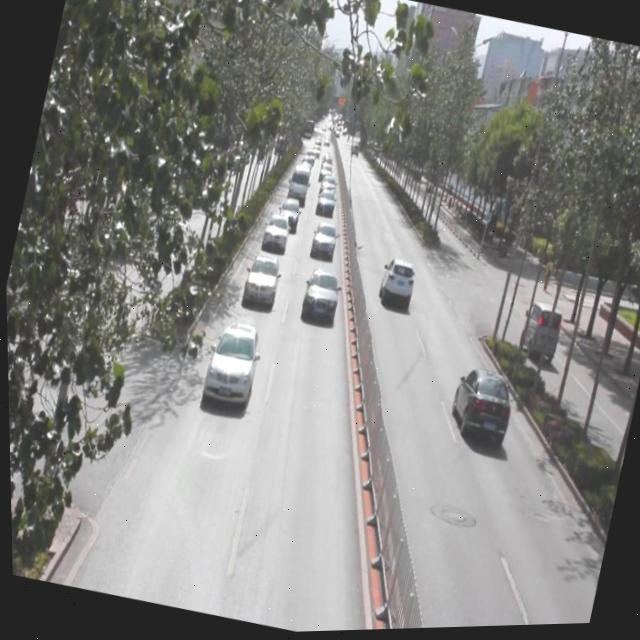car: (441, 365, 515, 457), (199, 317, 261, 408), (296, 267, 342, 328), (239, 253, 283, 313), (373, 257, 416, 315), (305, 222, 338, 267), (258, 213, 291, 257), (272, 198, 301, 237), (312, 189, 335, 221)
truck: (513, 298, 561, 362), (283, 163, 313, 206)
